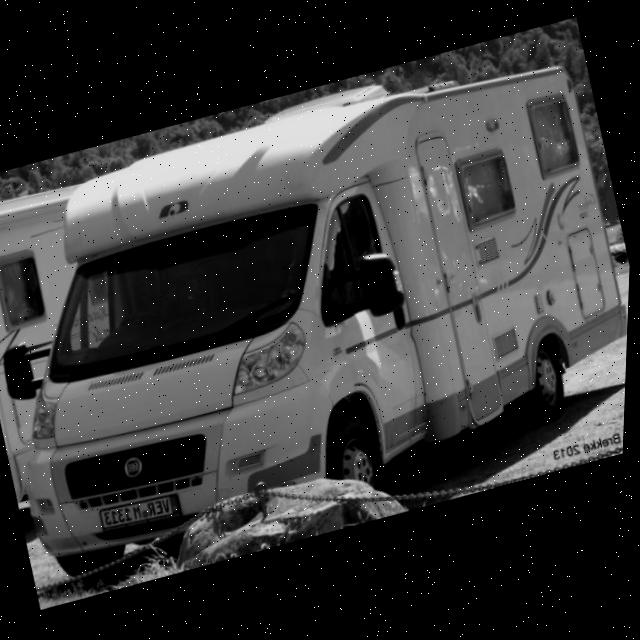license-plates: (99, 496, 179, 531)
